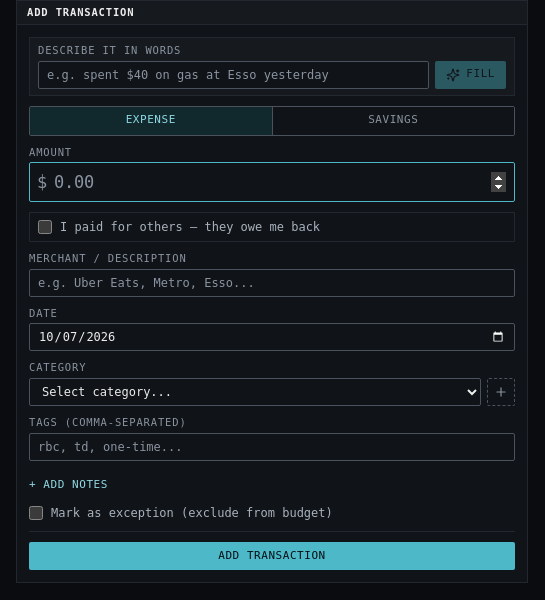
Scenario: categorisation guards › has nothing to categorise in savings mode
Type "Zyxo Mart" into the dropdown labelled "Merchant / Description" at {"x": 272, "y": 283}, box [29,269,515,297]
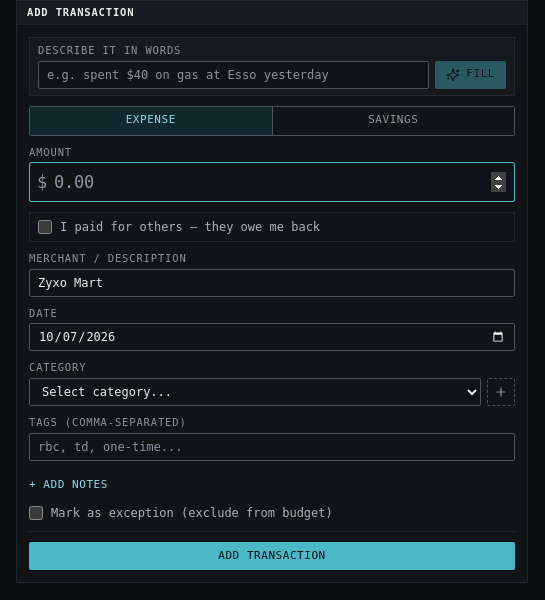
Click the button "Savings" at {"x": 393, "y": 121}, box [272,107,514,135]
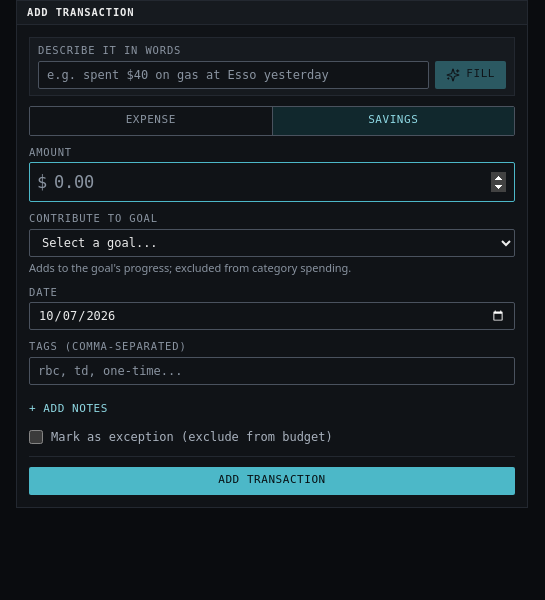
Now the label labelled "Merchant / Description" is gone
